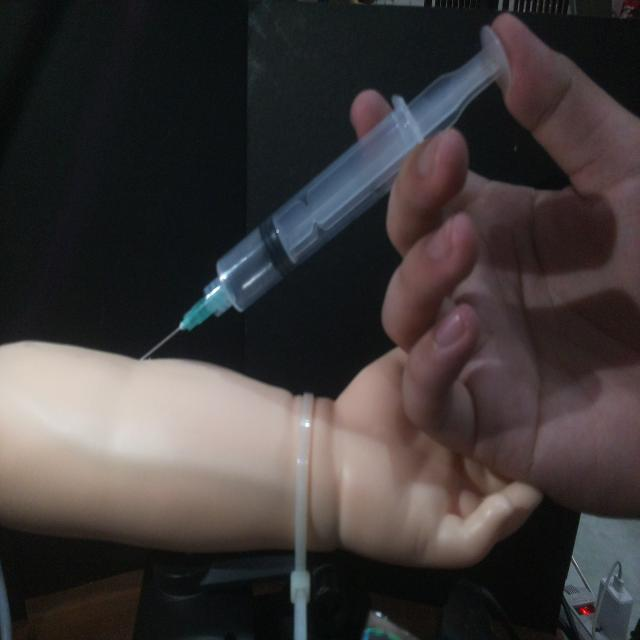29deg: (134, 22, 513, 364)
